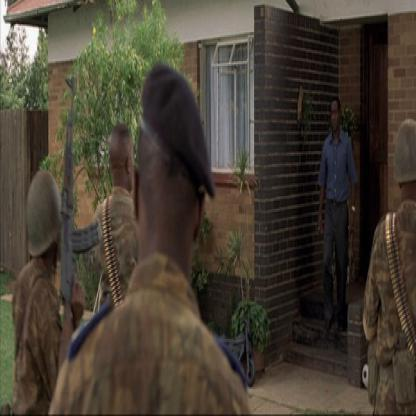Gun: (52, 64, 100, 381)
